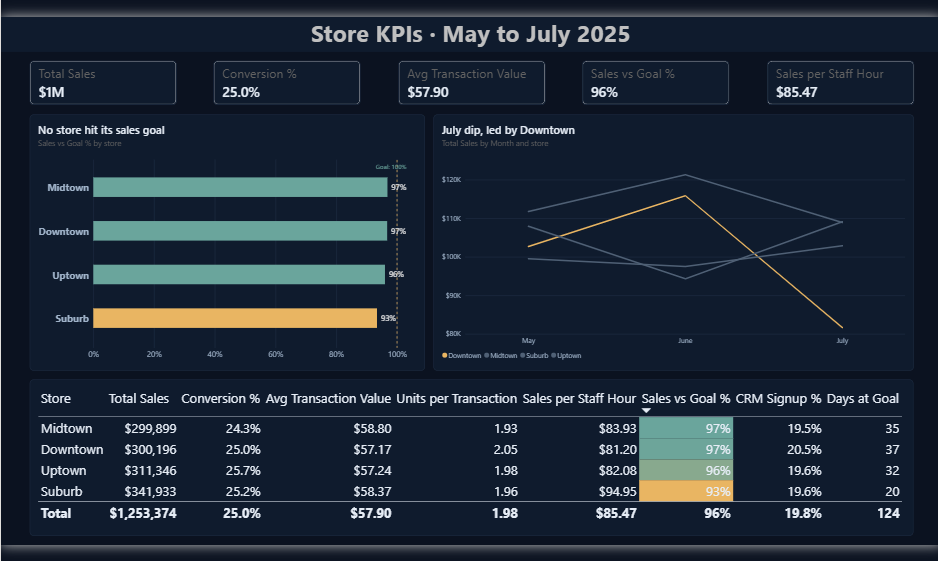

The page's visual inventory and layout, read from the dashboard file:
{"tool":"powerbi","page":{"name":"Page 1","canvas":[1920,1080],"ordinal":0},"visuals":[{"type":"textbox","box":[0,0,1920,71.5],"z":0},{"type":"cardVisual","fields":{"Data":["retail_sales.Total Sales"]},"box":[57.7,89.8,300,90],"z":1000},{"type":"cardVisual","fields":{"Data":["retail_sales.Conversion %"]},"box":[434.6,89.8,300,90],"z":2000},{"type":"cardVisual","fields":{"Data":["retail_sales.Avg Transaction Value"]},"box":[811.4,89.8,300,90],"z":3000},{"type":"cardVisual","fields":{"Data":["retail_sales.Sales vs Goal %"]},"box":[1188.2,89.8,300,90],"z":4000},{"type":"cardVisual","fields":{"Data":["retail_sales.Sales per Staff Hour"]},"box":[1565.1,89.8,300,90],"z":5000},{"type":"clusteredBarChart","title":"No store hit its sales goal","fields":{"Category":["retail_sales.store"],"Y":["retail_sales.Sales vs Goal %"]},"box":[58.7,199.1,806.8,523.4],"z":6000},{"type":"lineChart","title":"July dip, led by Downtown","fields":{"Category":["retail_sales.date.Variation.Date Hierarchy.Month"],"Series":["retail_sales.store"],"Y":["retail_sales.Total Sales"]},"box":[883.4,199.1,980.4,523.4],"z":7000},{"type":"tableEx","fields":{"Values":["retail_sales.store","retail_sales.Total Sales","retail_sales.Conversion %","retail_sales.Avg Transaction Value","retail_sales.Units per Transaction","retail_sales.Sales per Staff Hour","retail_sales.Sales vs Goal %","retail_sales.CRM Signup %","retail_sales.Days at Goal"]},"box":[58.7,740.4,1805.1,319.1],"z":8000}]}

Visuals, with their boxes on the page's 1920x1080 design canvas (x1, y1, x2, y2). These are canvas units, not pixel positions in the 938x561 screenshot, which may show the page scaled, cropped or inside an application window:
textbox: {"left": 0, "top": 0, "right": 1920, "bottom": 72}
cardVisual - retail_sales.Total Sales: {"left": 58, "top": 90, "right": 358, "bottom": 180}
cardVisual - retail_sales.Conversion %: {"left": 435, "top": 90, "right": 735, "bottom": 180}
cardVisual - retail_sales.Avg Transaction Value: {"left": 811, "top": 90, "right": 1111, "bottom": 180}
cardVisual - retail_sales.Sales vs Goal %: {"left": 1188, "top": 90, "right": 1488, "bottom": 180}
cardVisual - retail_sales.Sales per Staff Hour: {"left": 1565, "top": 90, "right": 1865, "bottom": 180}
"No store hit its sales goal" clusteredBarChart: {"left": 59, "top": 199, "right": 866, "bottom": 722}
"July dip, led by Downtown" lineChart: {"left": 883, "top": 199, "right": 1864, "bottom": 722}
tableEx - retail_sales.store x retail_sales.Total Sales: {"left": 59, "top": 740, "right": 1864, "bottom": 1060}
